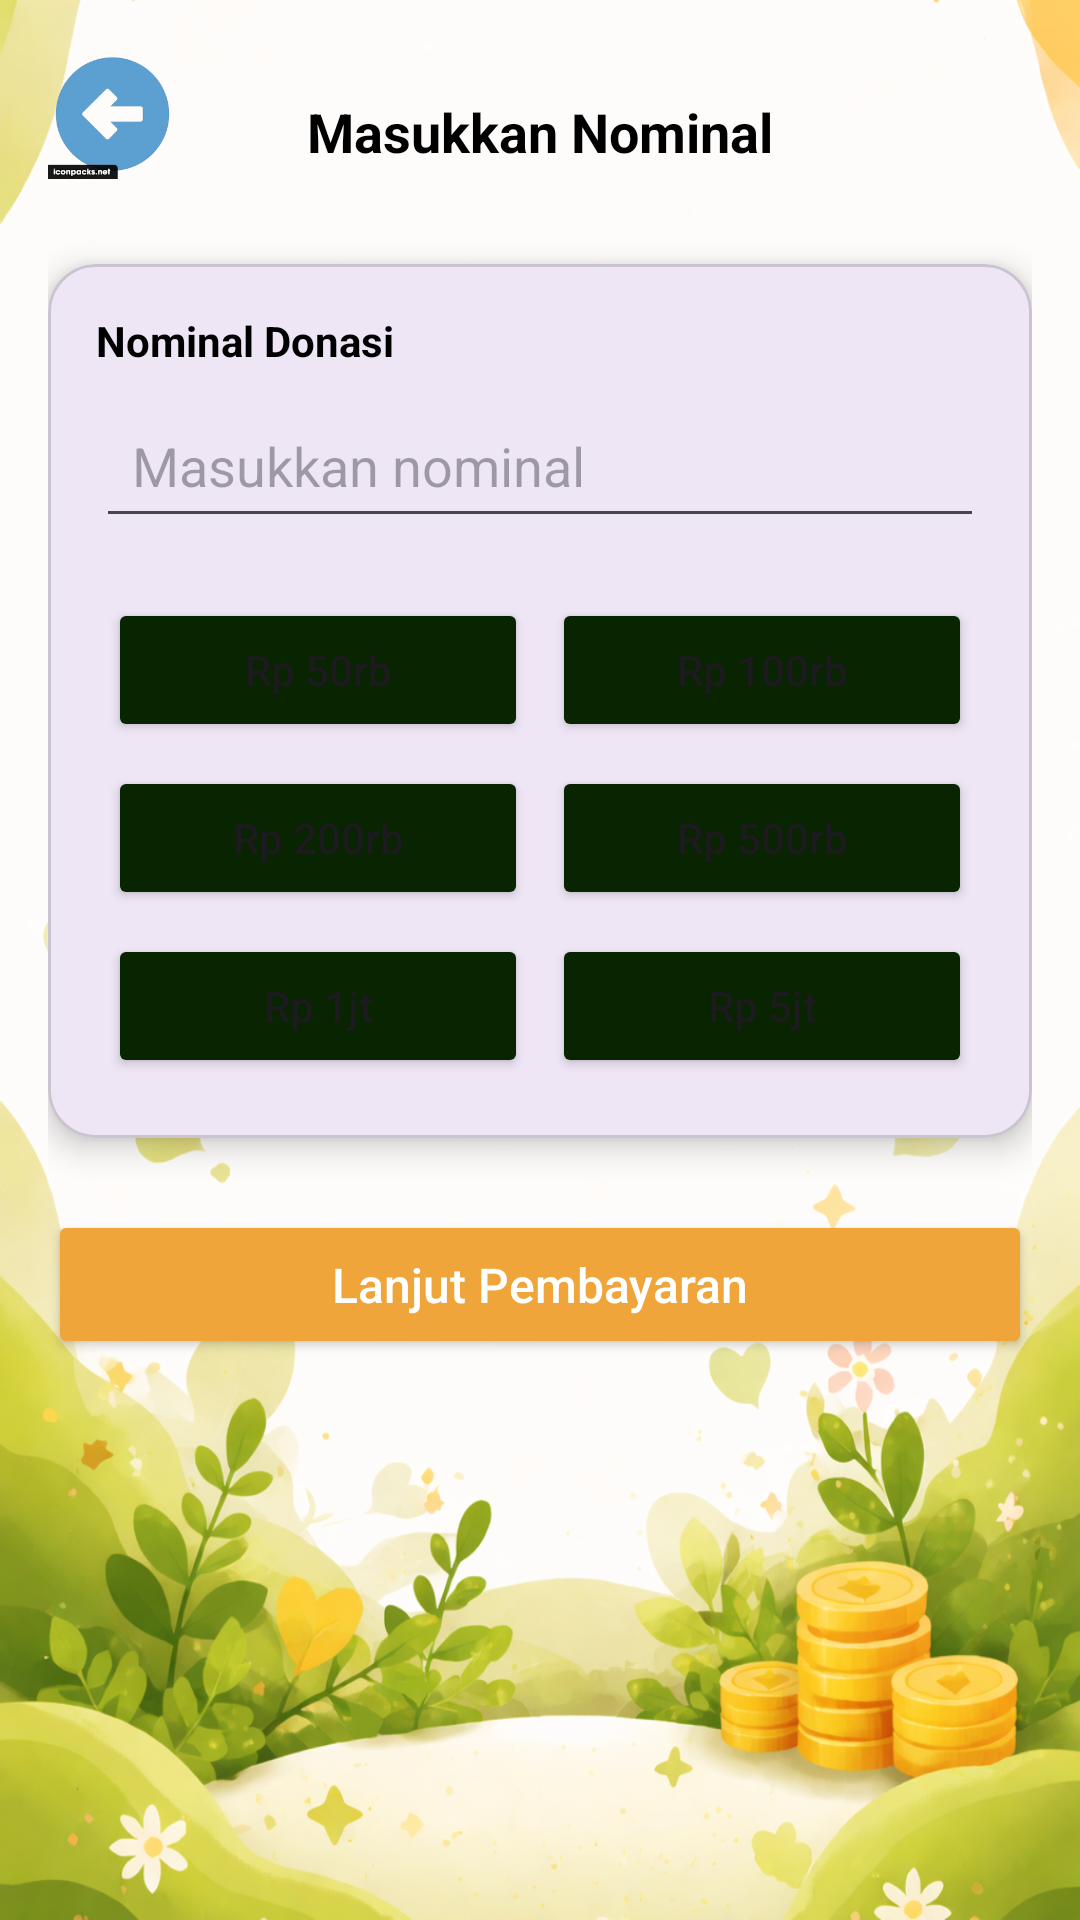

Point at icon controls on the screen. Image size 1080 x 1920, points as (x,y).
Back: (109,113)
